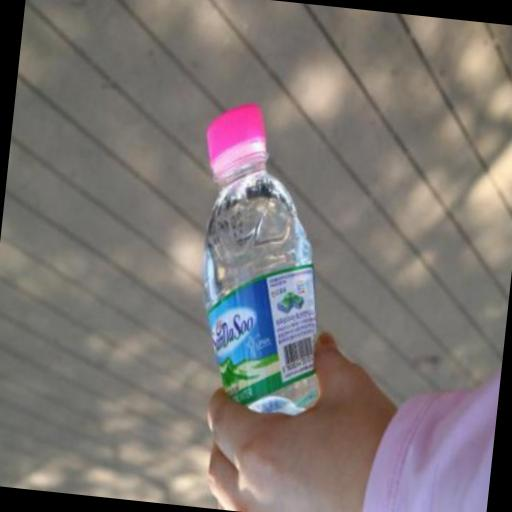Coca: (163, 91, 378, 512)
